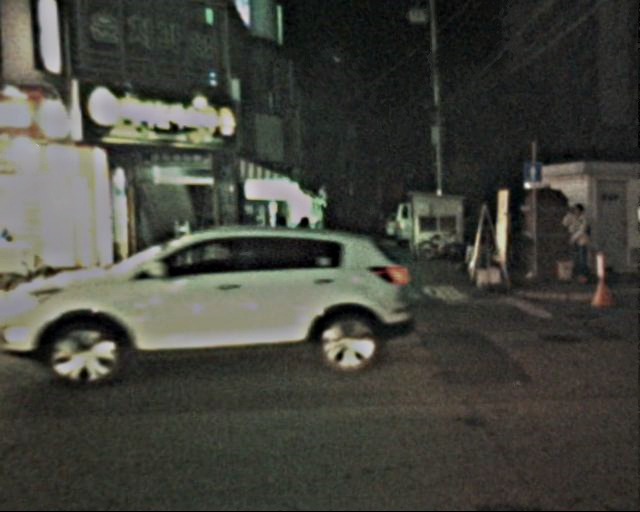person: (558, 203, 594, 289)
